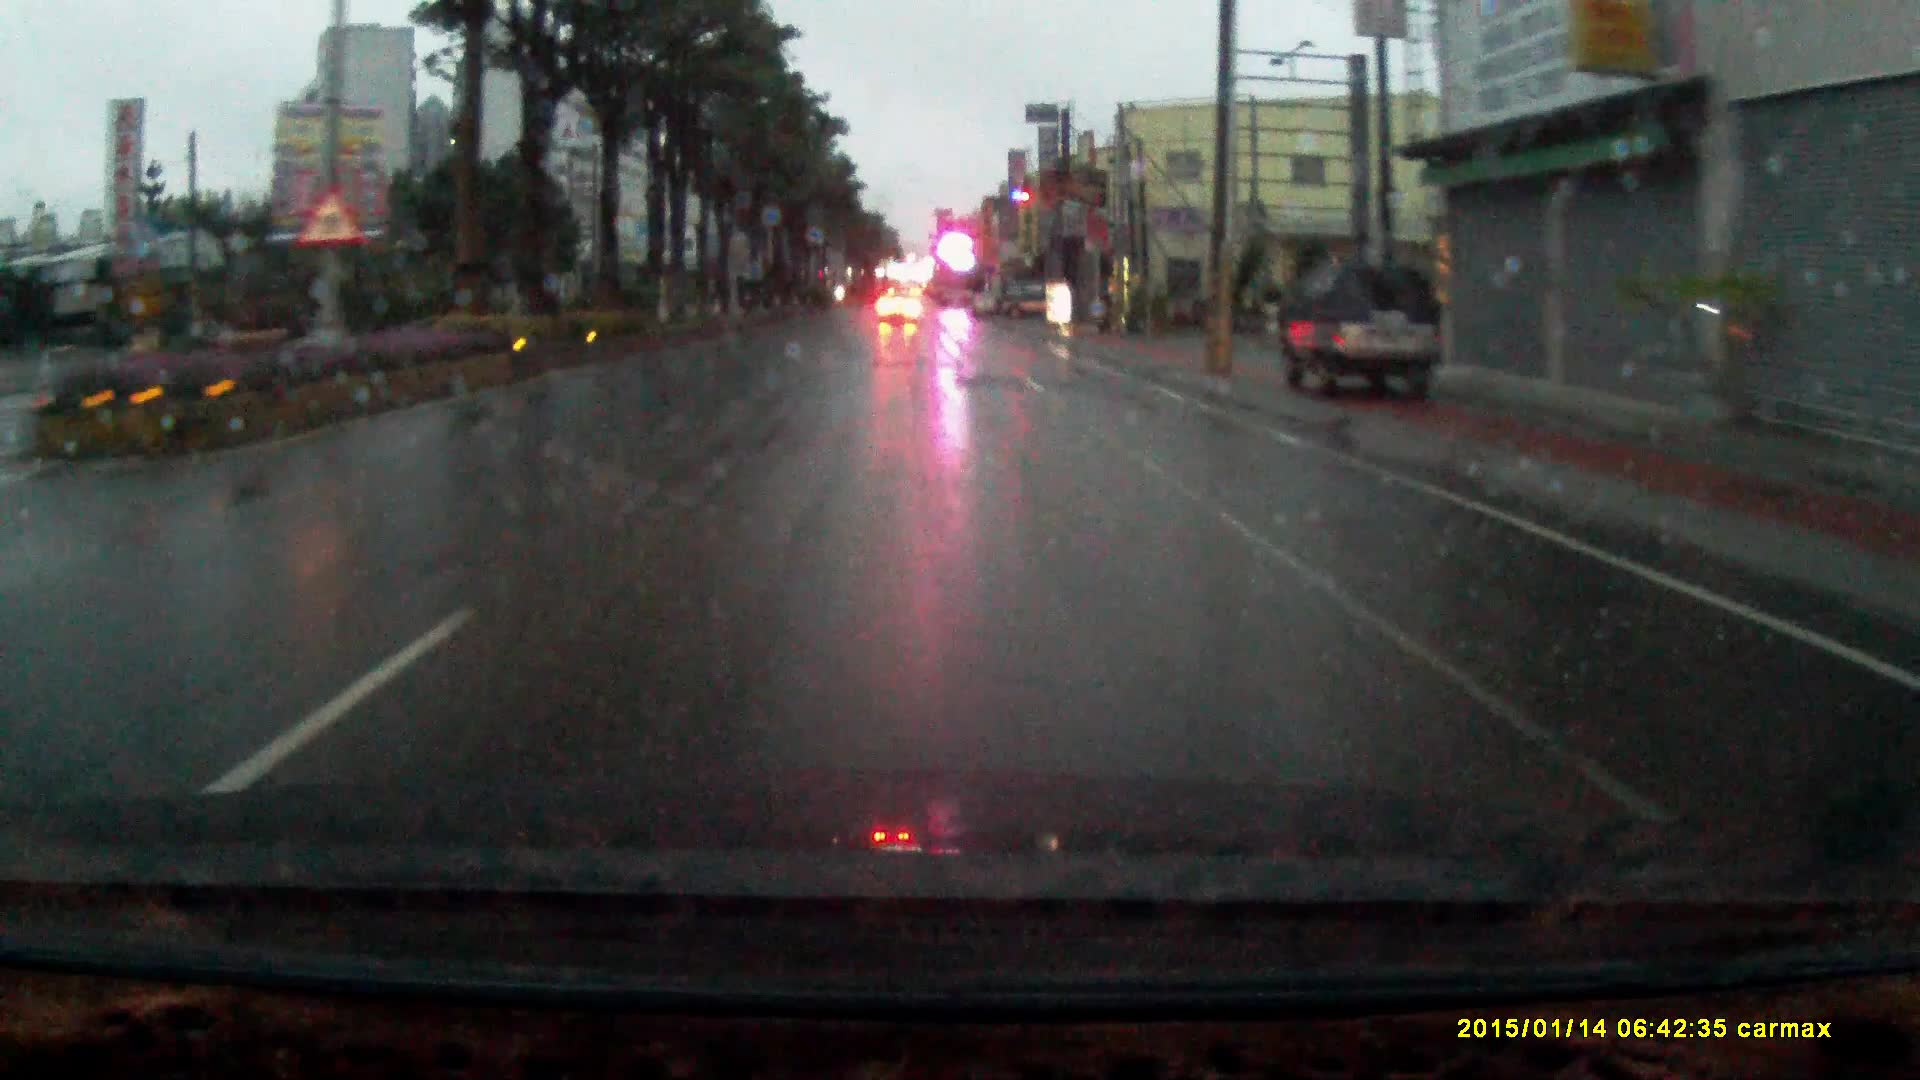vehicle: (1276, 274, 1449, 411), (877, 295, 920, 331)
